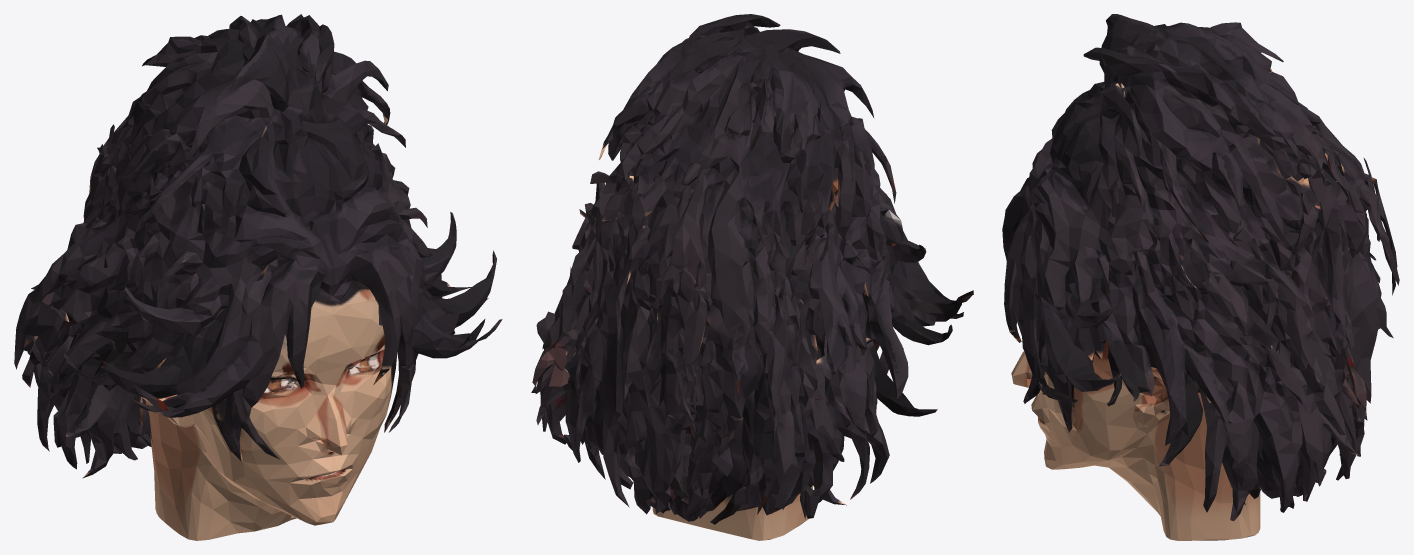
File: side_drunkactor_repaired_atlas.glb
3 renders of one model, left to right at view 1: azimuth 30°, elevation 25°; view 2: azimuth 150°, elevation 25°; view 3: azimuth 270°, elevation 25°, orthographic. The views are drawn at different scales.
Parts seen in each view (by area): view 1: temp_mesh.ply; view 2: temp_mesh.ply; view 3: temp_mesh.ply.
Part boxes in pixels (x1=…): temp_mesh.ply: x1=14, y1=14, x2=502, y2=540; temp_mesh.ply: x1=531, y1=14, x2=973, y2=540; temp_mesh.ply: x1=1002, y1=14, x2=1399, y2=540.
Bounding box in the file's own units: 1.74 × 1.98 × 1.48.
Materials: 1 (1 with a texture image).
